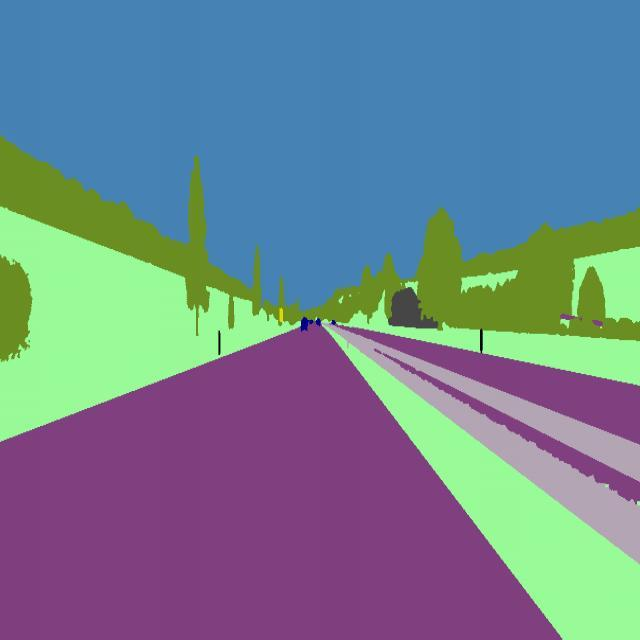safe: (298, 312, 310, 338), (316, 320, 322, 330)
